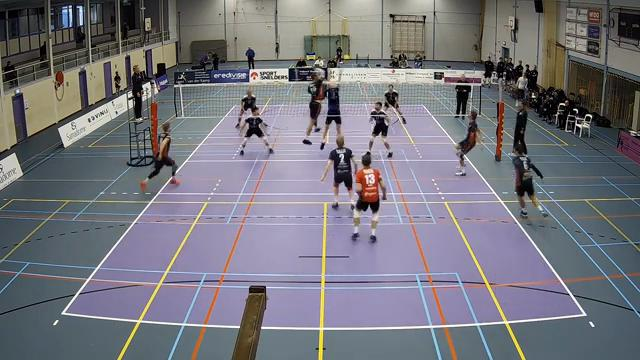attacco: (299, 67, 328, 152)
muro: (319, 65, 346, 153)
